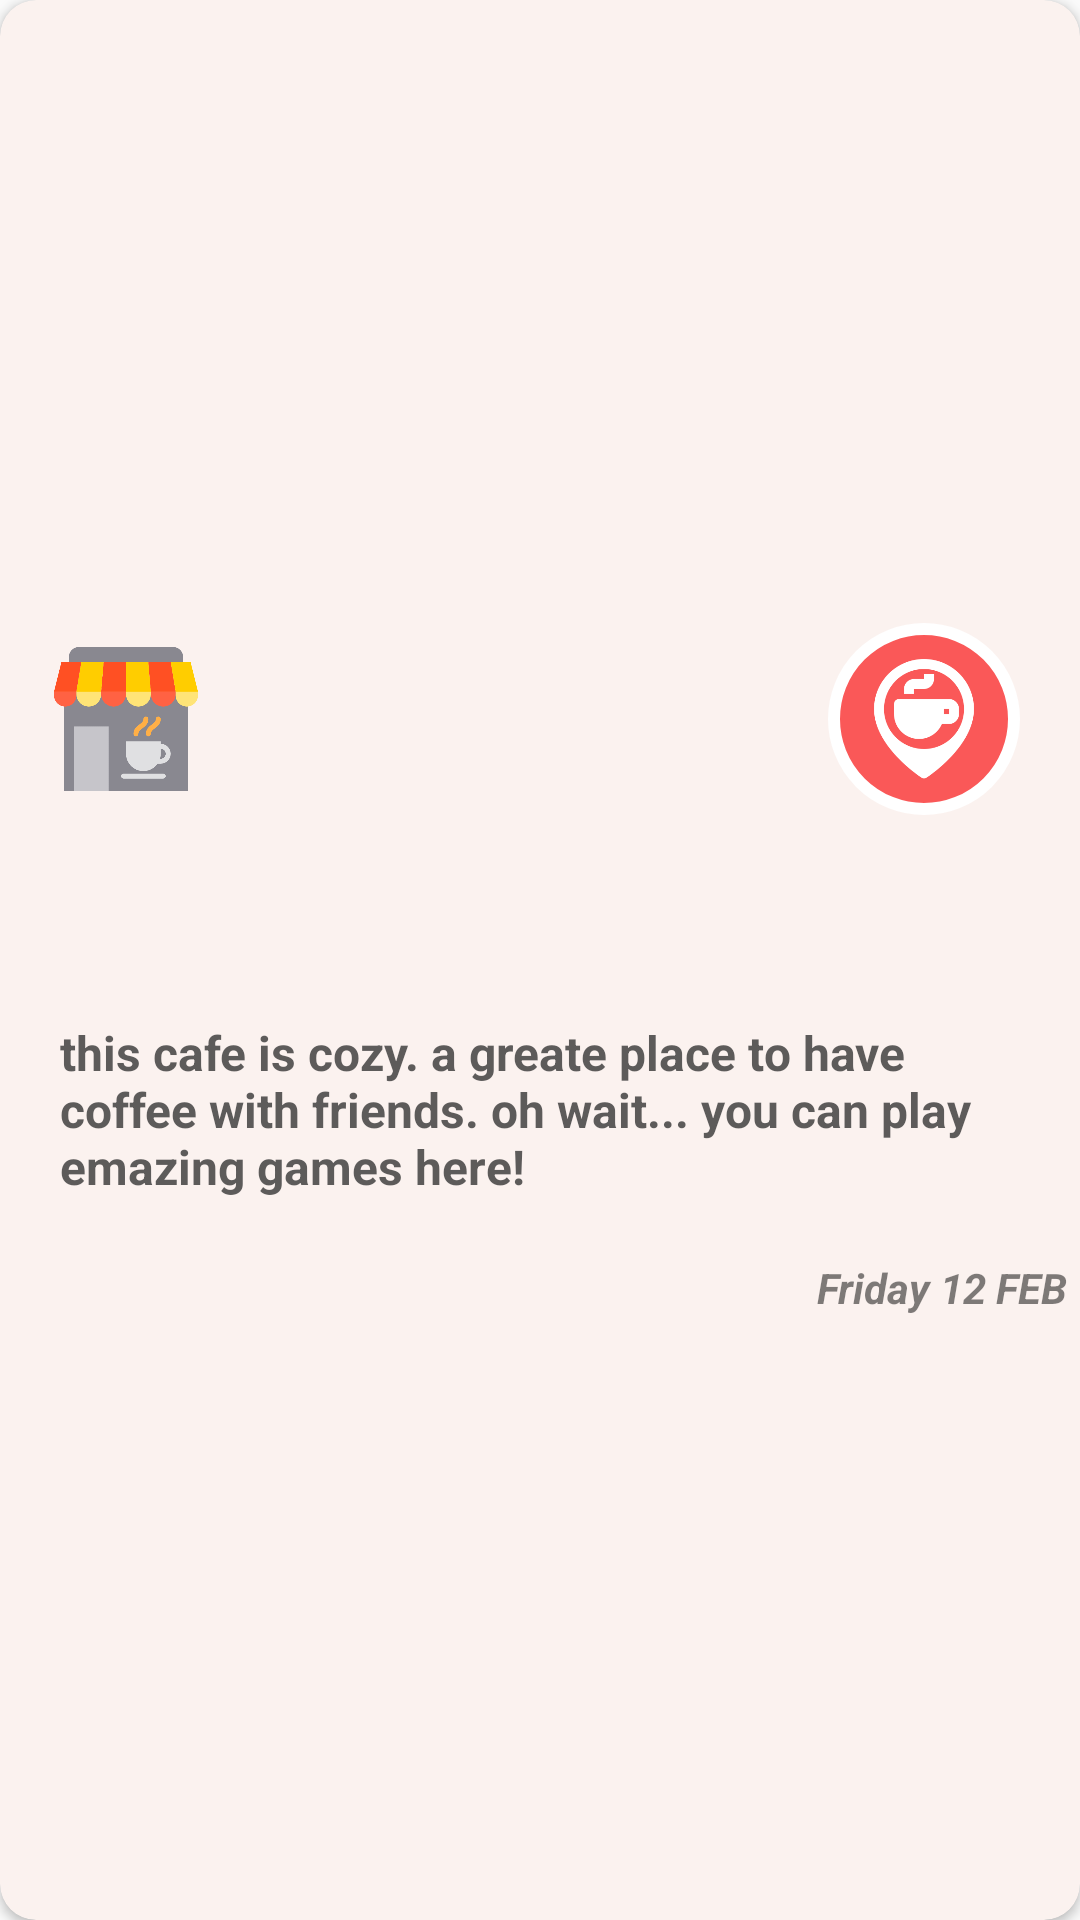

Where icons sit on this 1080px x 1920px app screen, as (x1, y1, x2, y2):
building: (54, 647, 198, 791)
cup: (840, 635, 1008, 803)
